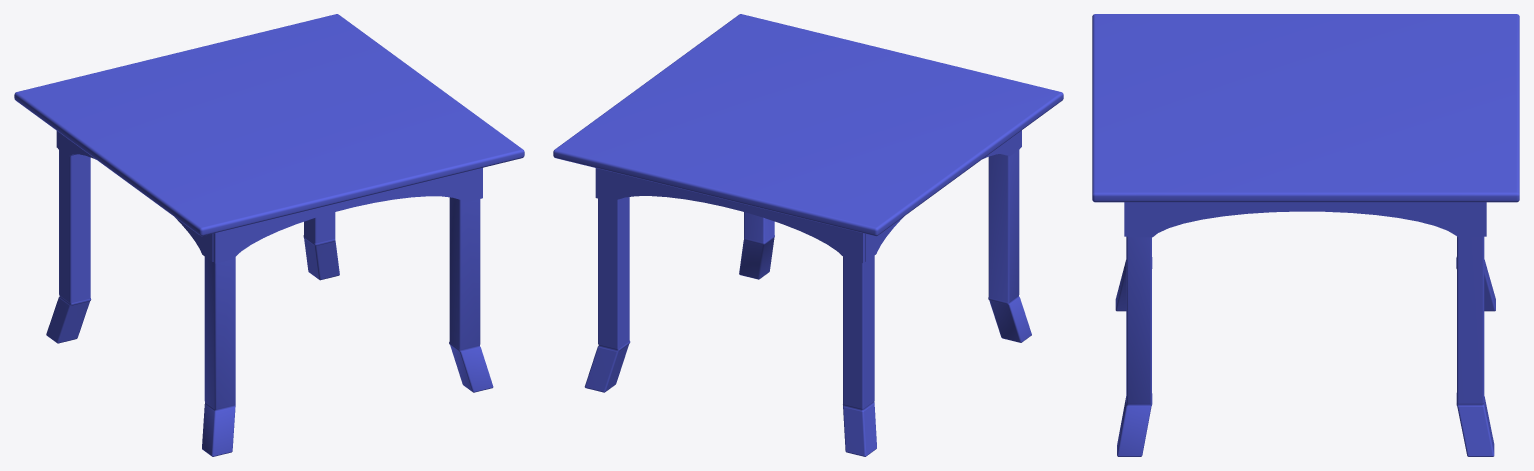
Rendered from table.fbx.
The picture shows the model from 3 angles, left to right: view 1: azimuth 30°, elevation 25°; view 2: azimuth 150°, elevation 25°; view 3: azimuth 270°, elevation 25°; orthographic projection. The views are drawn at different scales.
Parts seen in each view (by area): view 1: polySurface20; view 2: polySurface20; view 3: polySurface20.
Boxes of the visible parts, <box> form: polySurface20: <box>14,14,524,456</box>; polySurface20: <box>553,14,1063,456</box>; polySurface20: <box>1092,14,1519,456</box>.
Bounding box in the file's own units: 18.74 × 13.32 × 18.74.
